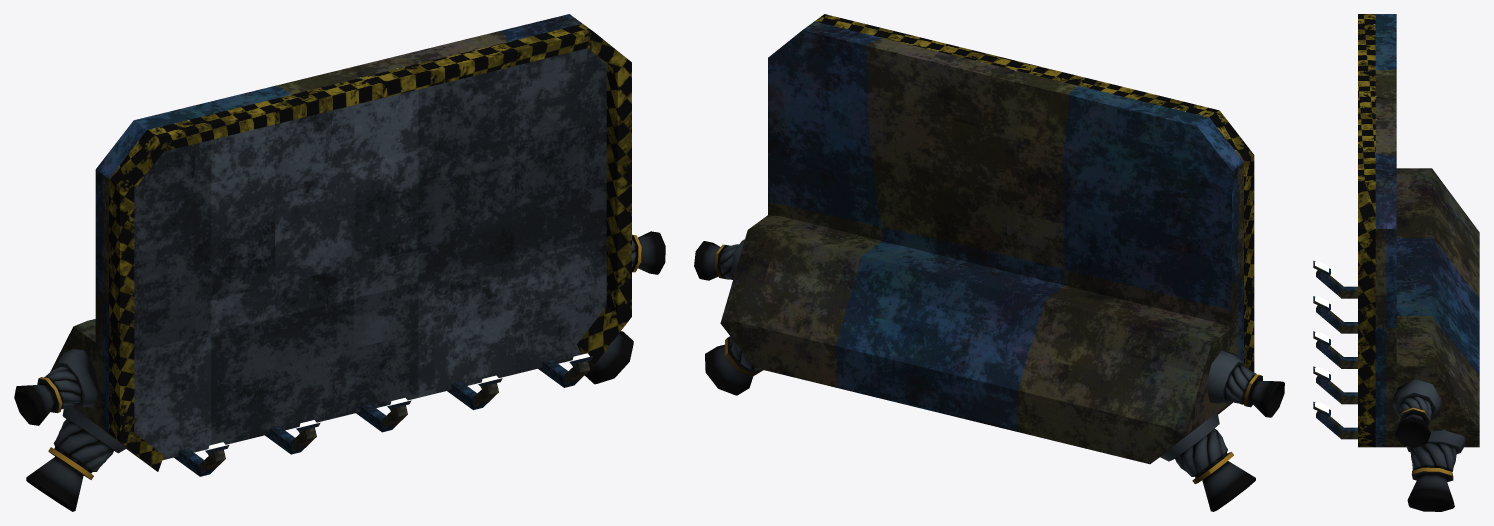
The model's file is BillBoard.glb.
3 renders of one model, left to right at view 1: azimuth 30°, elevation 25°; view 2: azimuth 150°, elevation 25°; view 3: azimuth 270°, elevation 25°, orthographic. The views are drawn at different scales.
Visible parts, largest first — view 1: BillBoard; view 2: BillBoard; view 3: BillBoard.
Boxes of the visible parts, <box> form: BillBoard: <box>14,14,665,511</box>; BillBoard: <box>694,14,1284,511</box>; BillBoard: <box>1313,14,1479,511</box>.
Size of the model in its own units: 14.38 by 8.48 by 4.11.
2 materials, 2 textured.
